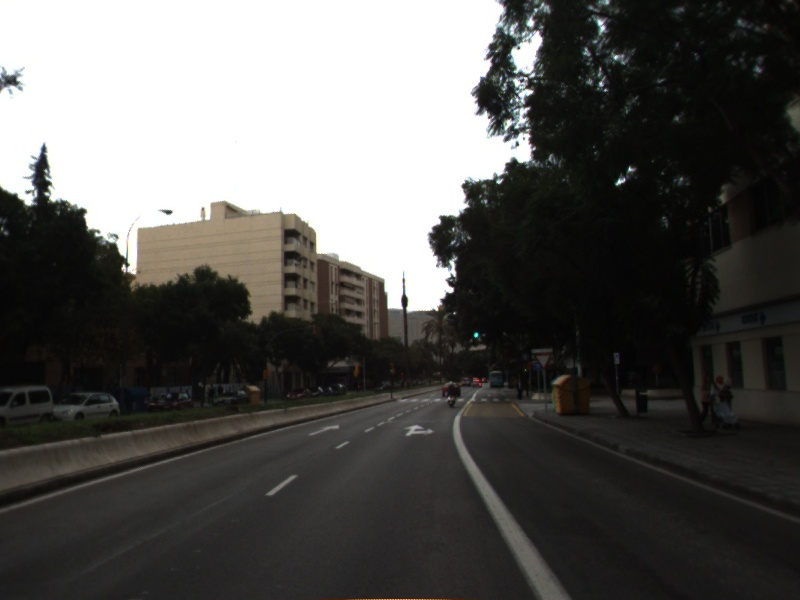STRAIGHT: (305, 423, 341, 438)
STRAIGHT_RIGHT: (400, 422, 437, 438)
